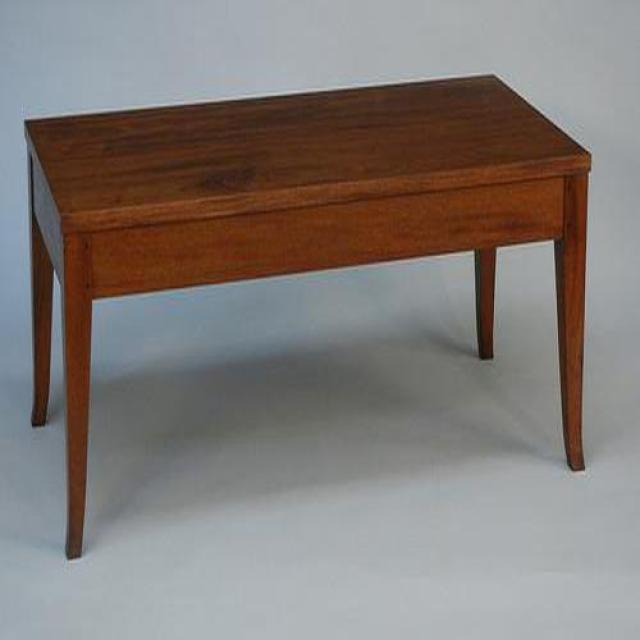table: (24, 76, 593, 562)
